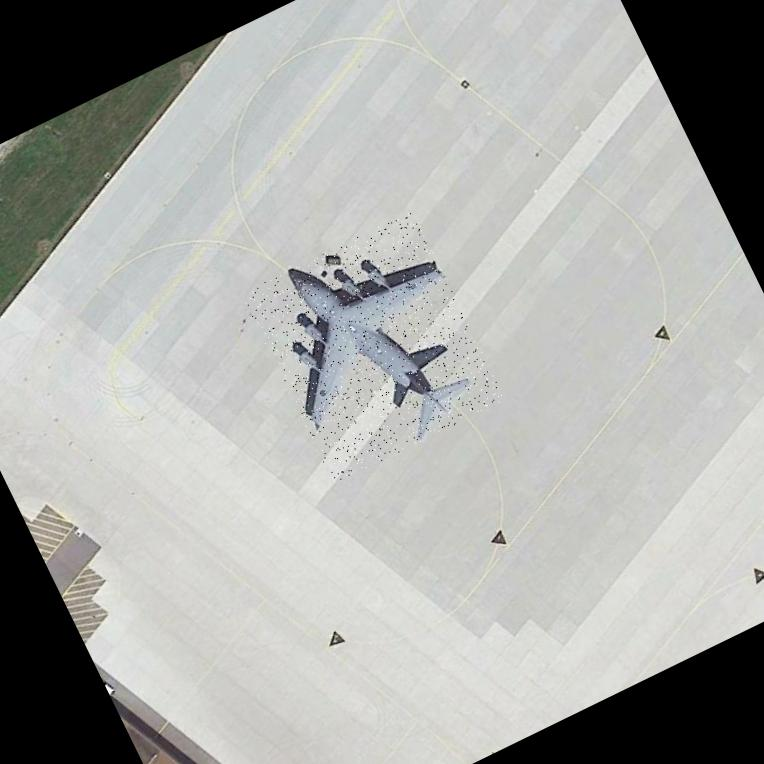A3: (241, 210, 506, 484)
